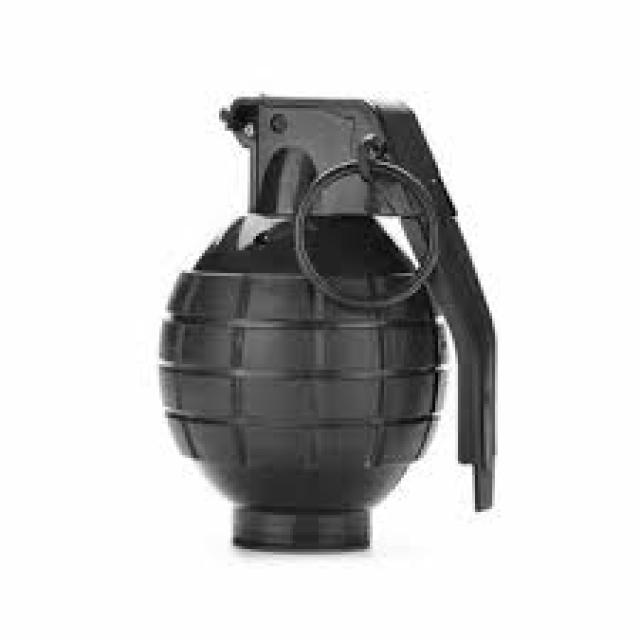grenade: (153, 93, 507, 564)
